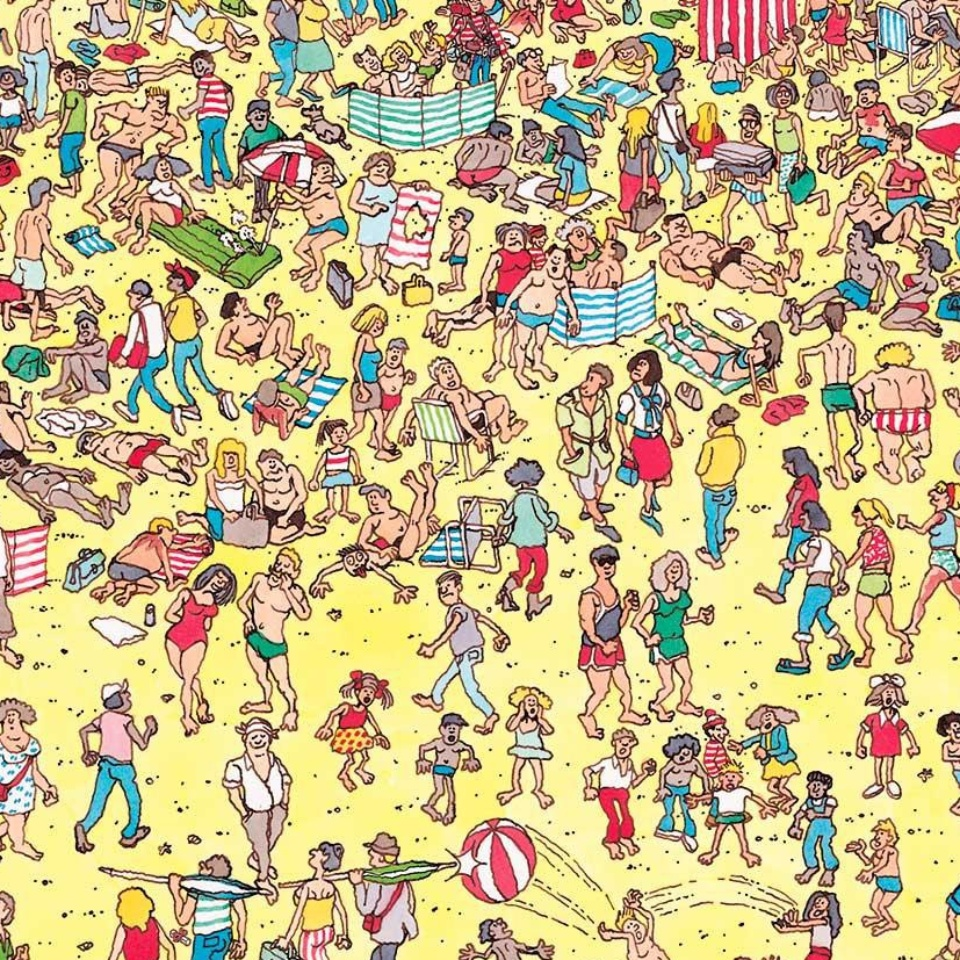waldo: (446, 0, 514, 85)
